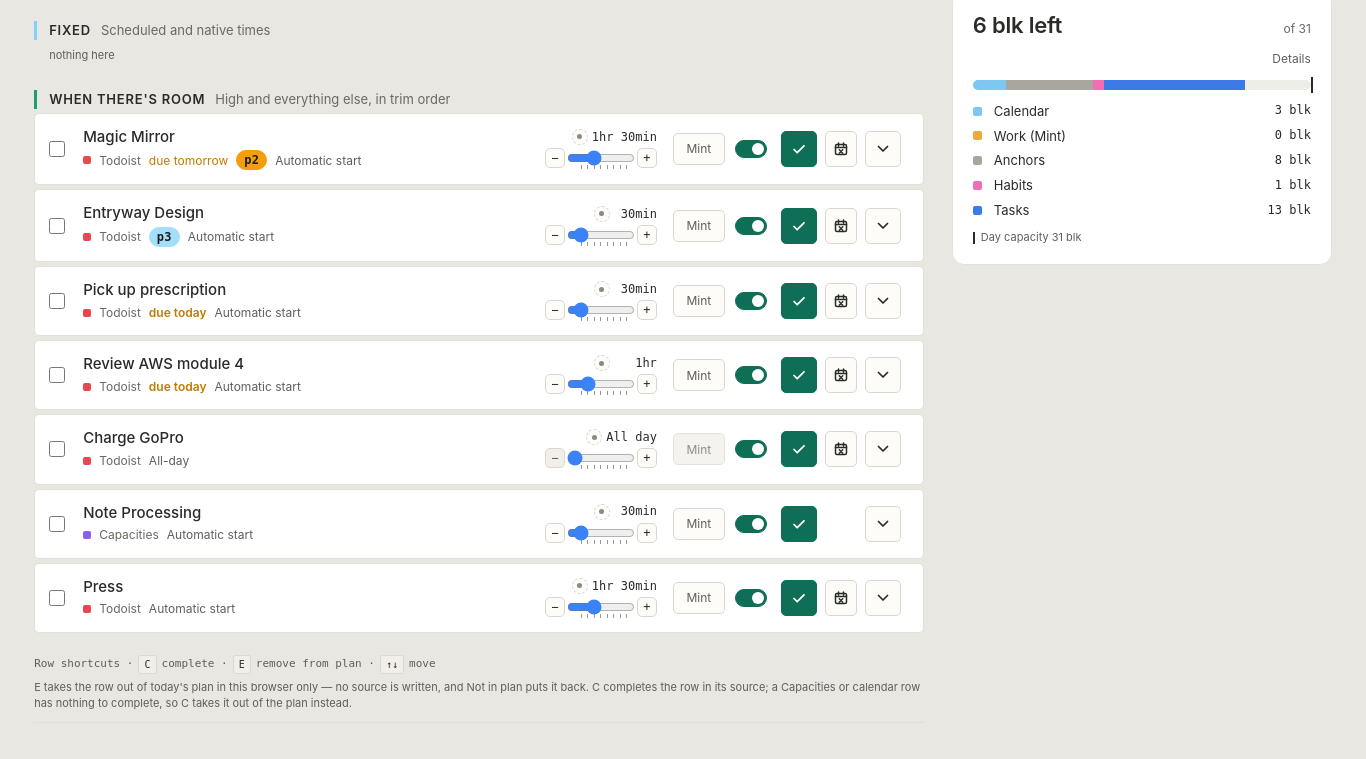
Scenario: the row's source unassign: every refusal closes with zero calls › Cancel closes the panel and writes nothing
The width and height of the screenshot is (1366, 759).
(page scrolled)
Click the 6th button named "Unassign in Todoist…".
click(841, 598)  # box [825,580,857,616]
(page scrolled)
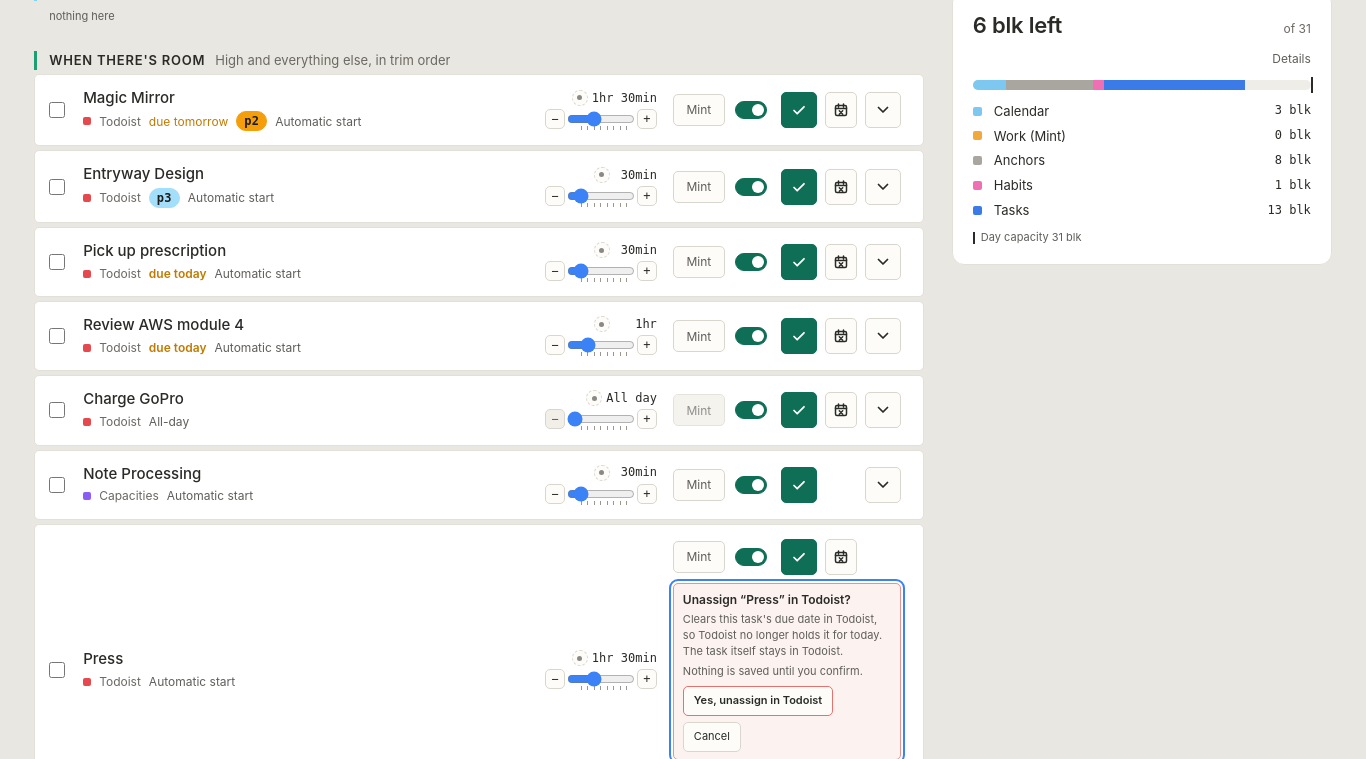
Click the button "Cancel".
click(712, 737)  # box [683,722,741,752]
(page scrolled)
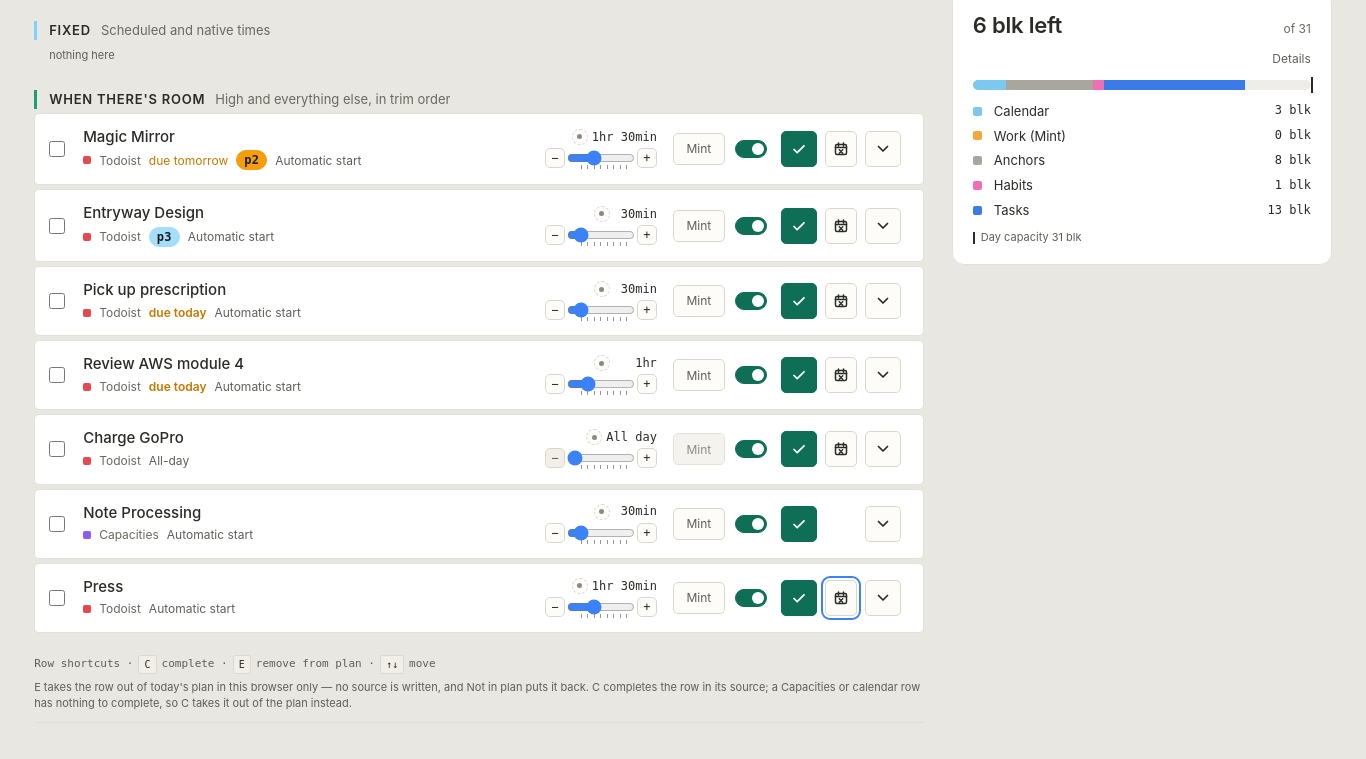
Result: the element with class "unassign__panel" is gone
